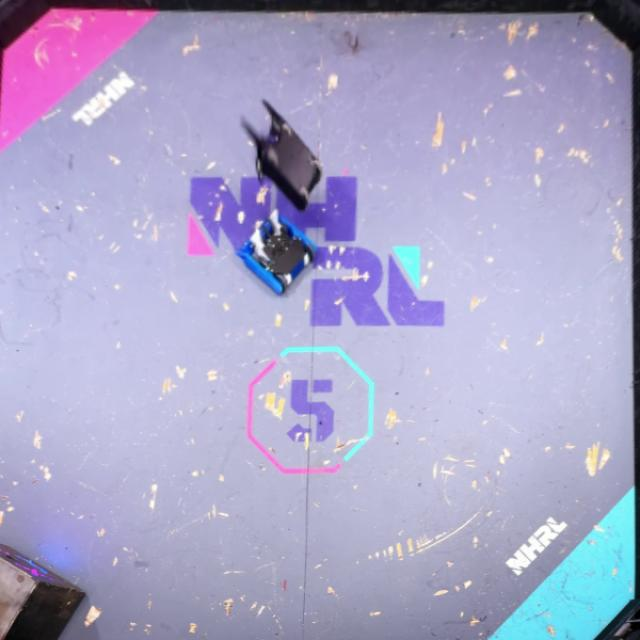housebot: (2, 541, 88, 640)
robot: (238, 98, 324, 214), (239, 214, 320, 296)
